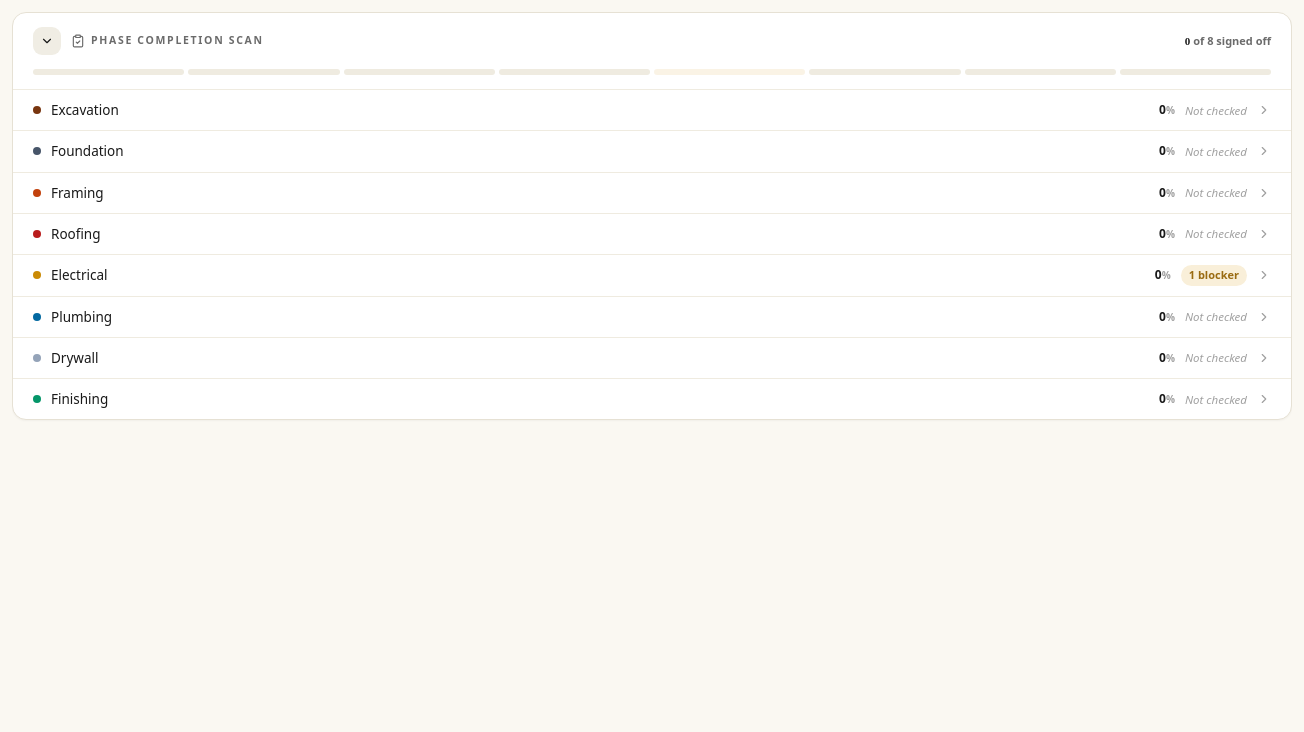
Test: PhaseCompletionBoard › lists every phase and expands one to show its verdict + blockers
Click the button "Electrical 0% 1 blocker". click: click(79, 275)
box: [13, 255, 1291, 296]
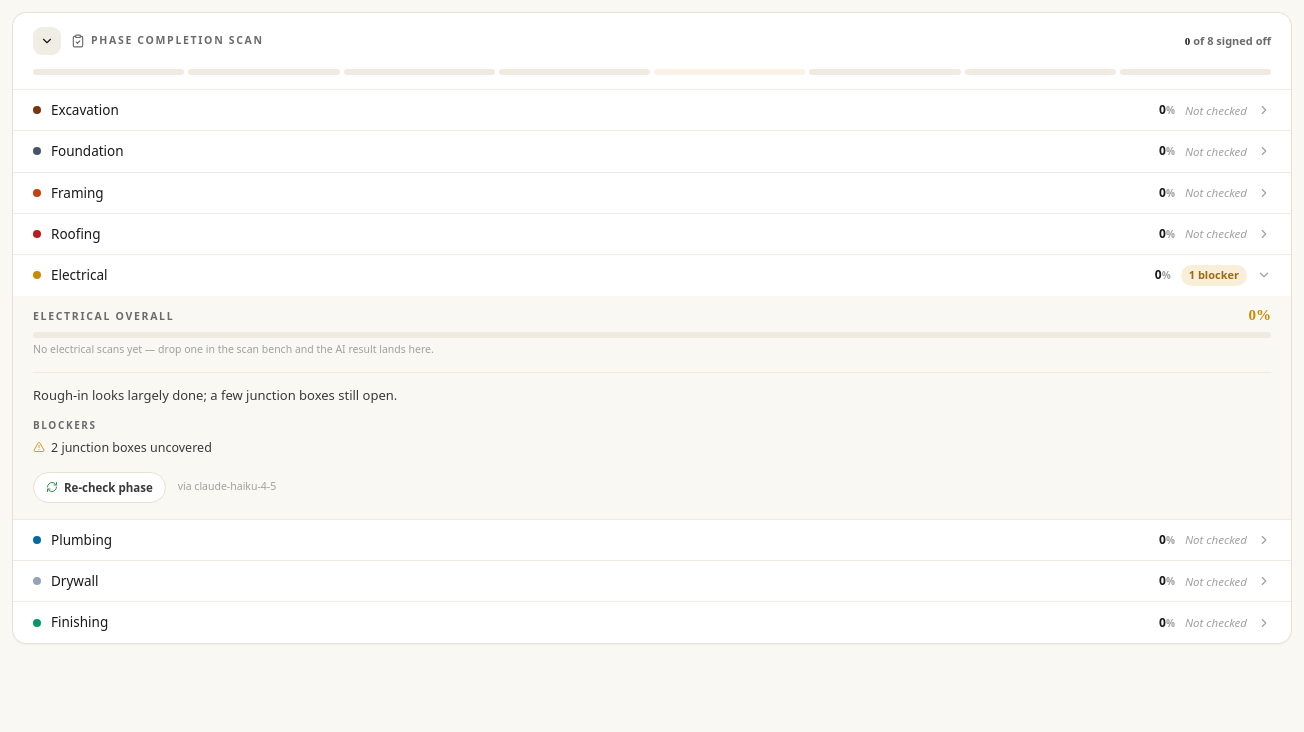
expect the text "Rough-in looks largely done" is shown: met, box [33, 386, 397, 404]
expect the list item "2 junction boxes uncovered" is shown: met, box [33, 439, 212, 456]
